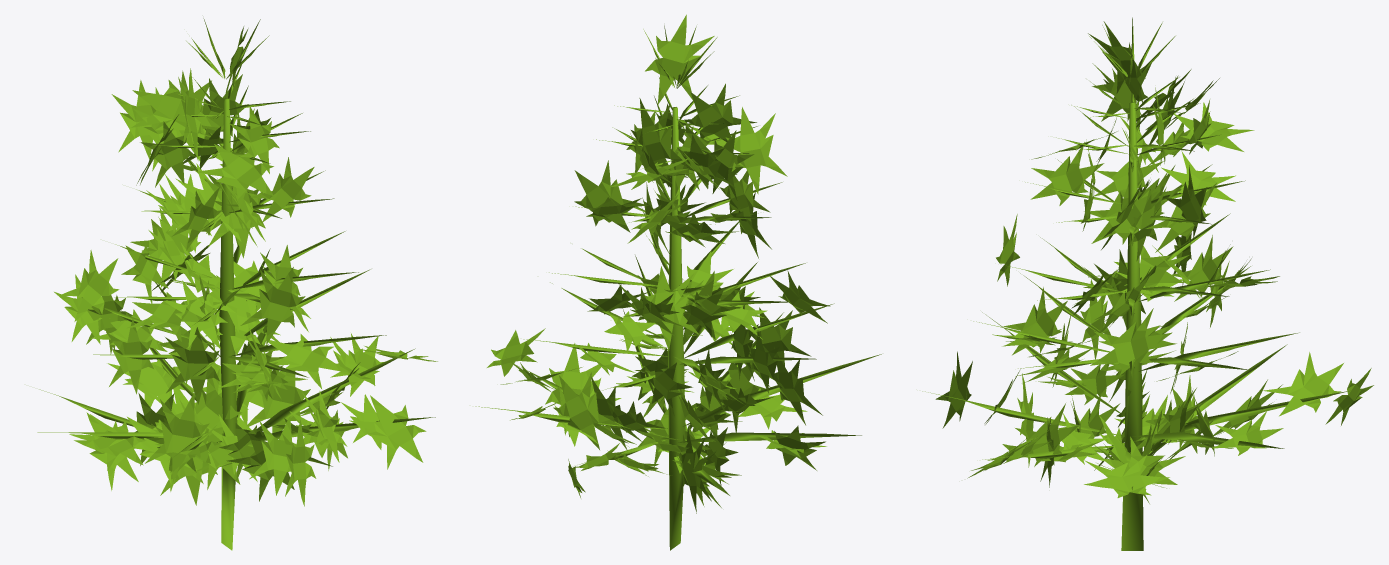
Rendered from Konopla.fbx.
The picture shows the model from 3 angles, left to right: view 1: azimuth 30°, elevation 25°; view 2: azimuth 150°, elevation 25°; view 3: azimuth 270°, elevation 25°; orthographic projection.
Visible parts, largest first — view 1: Plane.047; view 2: Plane.047; view 3: Plane.047.
Part boxes in pixels (x1=…): Plane.047: x1=37, y1=18, x2=437, y2=550; Plane.047: x1=475, y1=14, x2=881, y2=550; Plane.047: x1=922, y1=17, x2=1373, y2=550.
Size of the model in its own units: 72.31 by 94.84 by 74.52.
